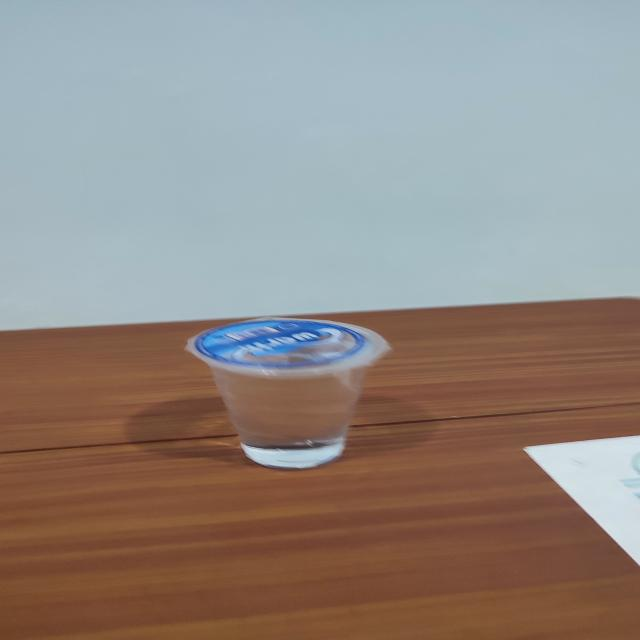air gelas: (174, 305, 397, 472)
